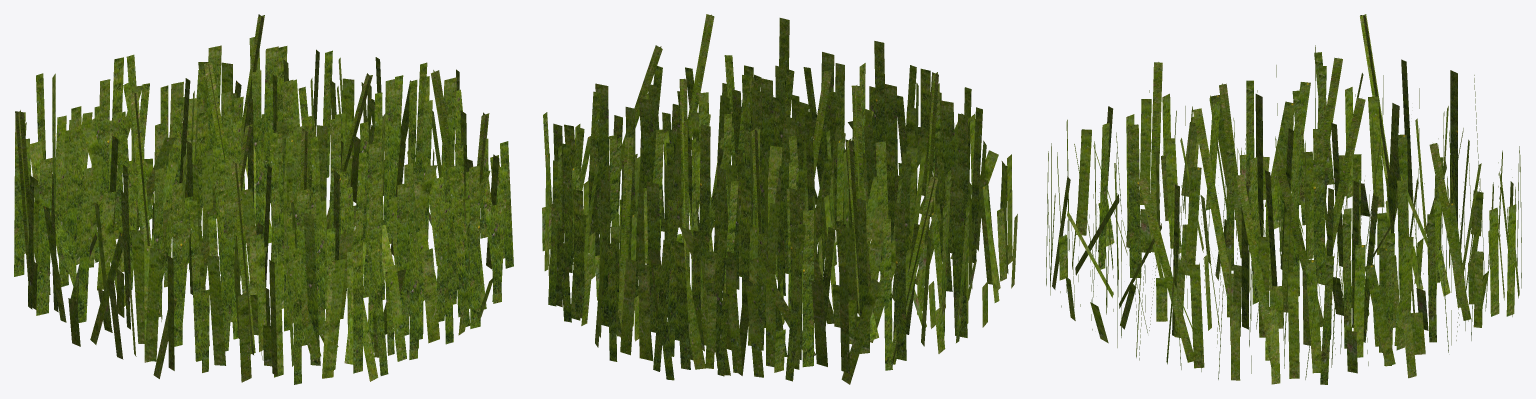
File: grass.gltf
3 renders of one model, left to right at view 1: azimuth 30°, elevation 25°; view 2: azimuth 150°, elevation 25°; view 3: azimuth 270°, elevation 25°, orthographic. The views are drawn at different scales.
Parts seen in each view (by area): view 1: Trava Kolosok; view 2: Trava Kolosok; view 3: Trava Kolosok.
Part boxes in pixels (x1=…): Trava Kolosok: x1=14, y1=14, x2=513, y2=384; Trava Kolosok: x1=542, y1=14, x2=1017, y2=384; Trava Kolosok: x1=1046, y1=14, x2=1521, y2=384.
Bounding box in the file's own units: 780 × 361 × 783.
Materials: 1 (1 with a texture image).
